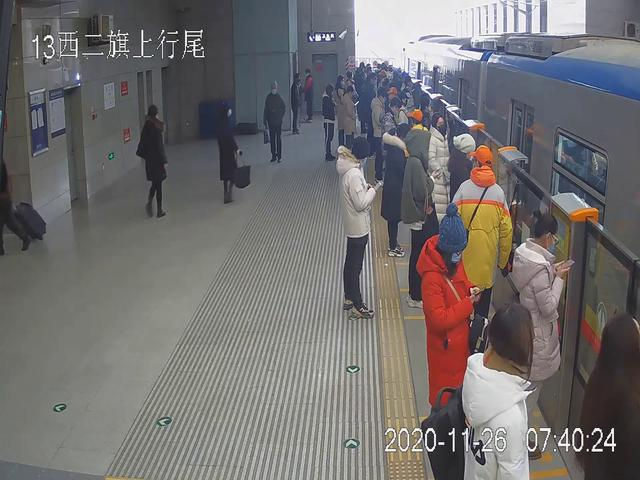person: (507, 211, 568, 456), (459, 302, 538, 480), (415, 205, 479, 411), (452, 145, 515, 352), (333, 135, 381, 320), (401, 128, 442, 311), (381, 121, 415, 257), (137, 105, 172, 220), (213, 101, 245, 206), (263, 80, 288, 167), (339, 87, 361, 153), (319, 83, 337, 162)
